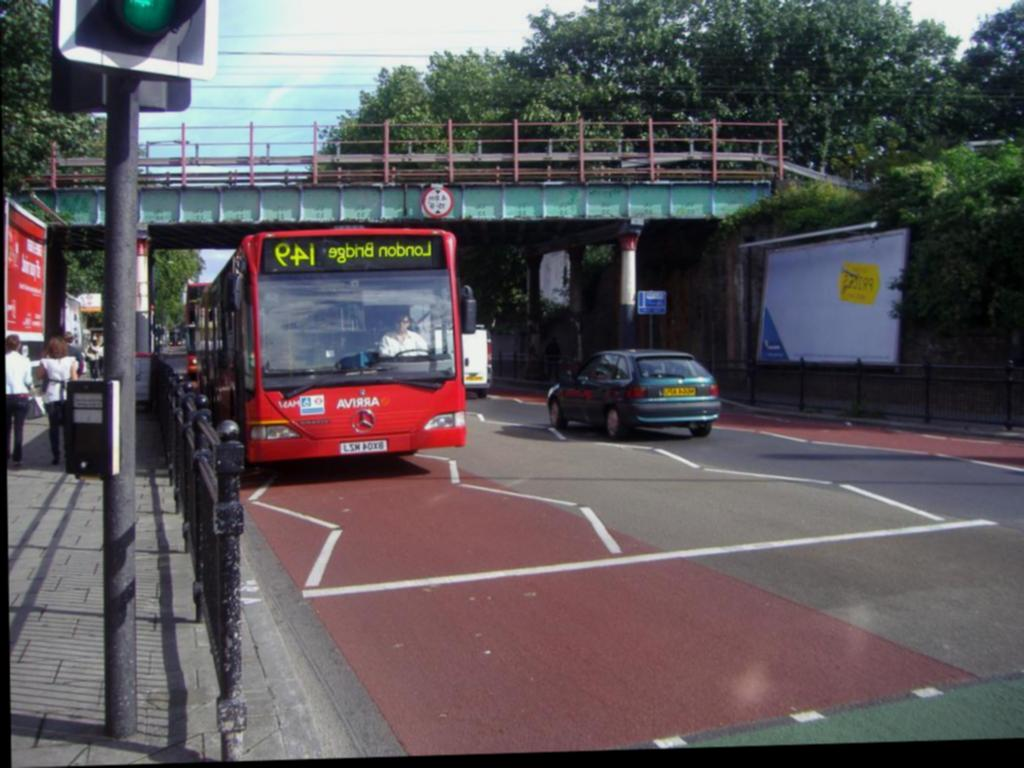License_Plate: (340, 440, 387, 453), (663, 386, 696, 396)
